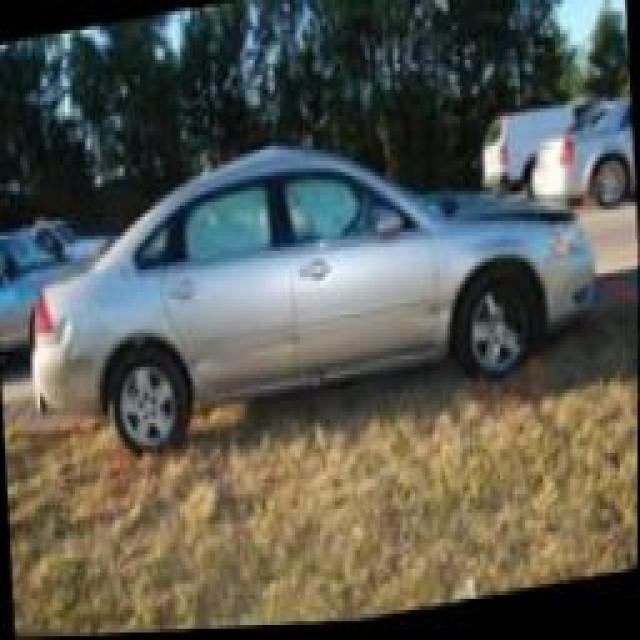Bonnet: (448, 191, 585, 272)
Bumper: (27, 373, 75, 428)
Door: (171, 294, 449, 402)
Fender: (40, 283, 96, 381)
